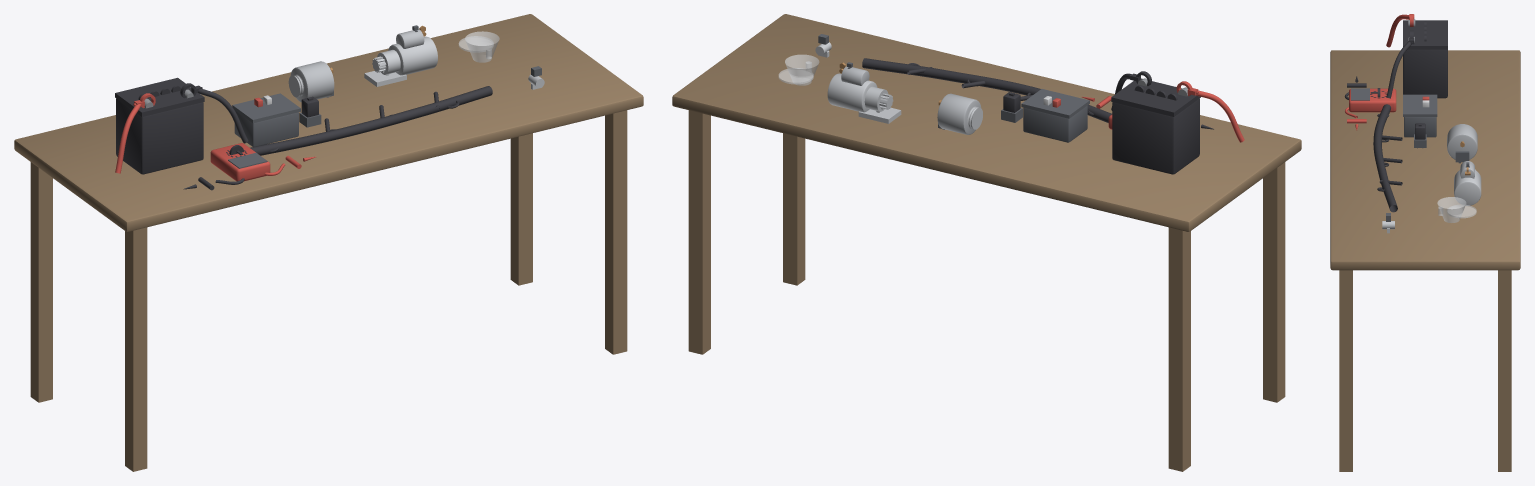
The model's file is elektrik.glb.
The picture shows the model from 3 angles, left to right: view 1: azimuth 30°, elevation 25°; view 2: azimuth 150°, elevation 25°; view 3: azimuth 270°, elevation 25°; orthographic projection. The views are drawn at different scales.
Visible parts, largest first — view 1: tezgah_yuzeyi, aku_govdesi, kablo_demeti, sigorta_kutusu, mars_govdesi, alternator_govdesi, multimetre_govdesi, far_soketi, aku_eksi_kelepce; view 2: tezgah_yuzeyi, aku_govdesi, sigorta_kutusu, kablo_demeti, mars_govdesi, alternator_govdesi, far_soketi; view 3: tezgah_yuzeyi, aku_govdesi, sigorta_kutusu, kablo_demeti, alternator_govdesi, multimetre_govdesi, mars_govdesi, far_soketi, aku_eksi_kelepce, aku_arti_kelepce, multimetre_ekran, mars_selenoidi.
Boxes of the visible parts, x1,y1,x2,y2 form: tezgah_yuzeyi: (14,14,643,471); aku_govdesi: (115,77,204,174); kablo_demeti: (250,86,492,155); sigorta_kutusu: (232,93,300,146); mars_govdesi: (372,36,437,75); alternator_govdesi: (290,61,334,102); multimetre_govdesi: (210,143,270,181); far_soketi: (458,31,499,62); aku_eksi_kelepce: (180,83,248,143); tezgah_yuzeyi: (672,14,1301,471); aku_govdesi: (1111,78,1200,174); sigorta_kutusu: (1021,89,1089,142); kablo_demeti: (862,58,1111,122); mars_govdesi: (827,73,893,112); alternator_govdesi: (937,93,981,134); far_soketi: (778,54,819,85); tezgah_yuzeyi: (1330,50,1520,471); aku_govdesi: (1403,20,1447,98); sigorta_kutusu: (1403,94,1437,137); kablo_demeti: (1373,104,1402,212); alternator_govdesi: (1447,124,1477,159); multimetre_govdesi: (1349,88,1396,112); mars_govdesi: (1454,169,1481,205); far_soketi: (1437,197,1476,222); aku_eksi_kelepce: (1386,30,1414,98); aku_arti_kelepce: (1386,14,1414,47); multimetre_ekran: (1351,88,1369,100); mars_selenoidi: (1460,161,1474,178).
Size of the model in its own units: 1.9 by 1.16 by 0.72.
